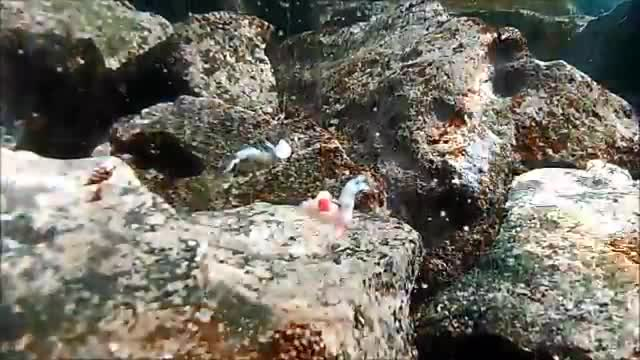mebaru: (106, 121, 210, 178)
